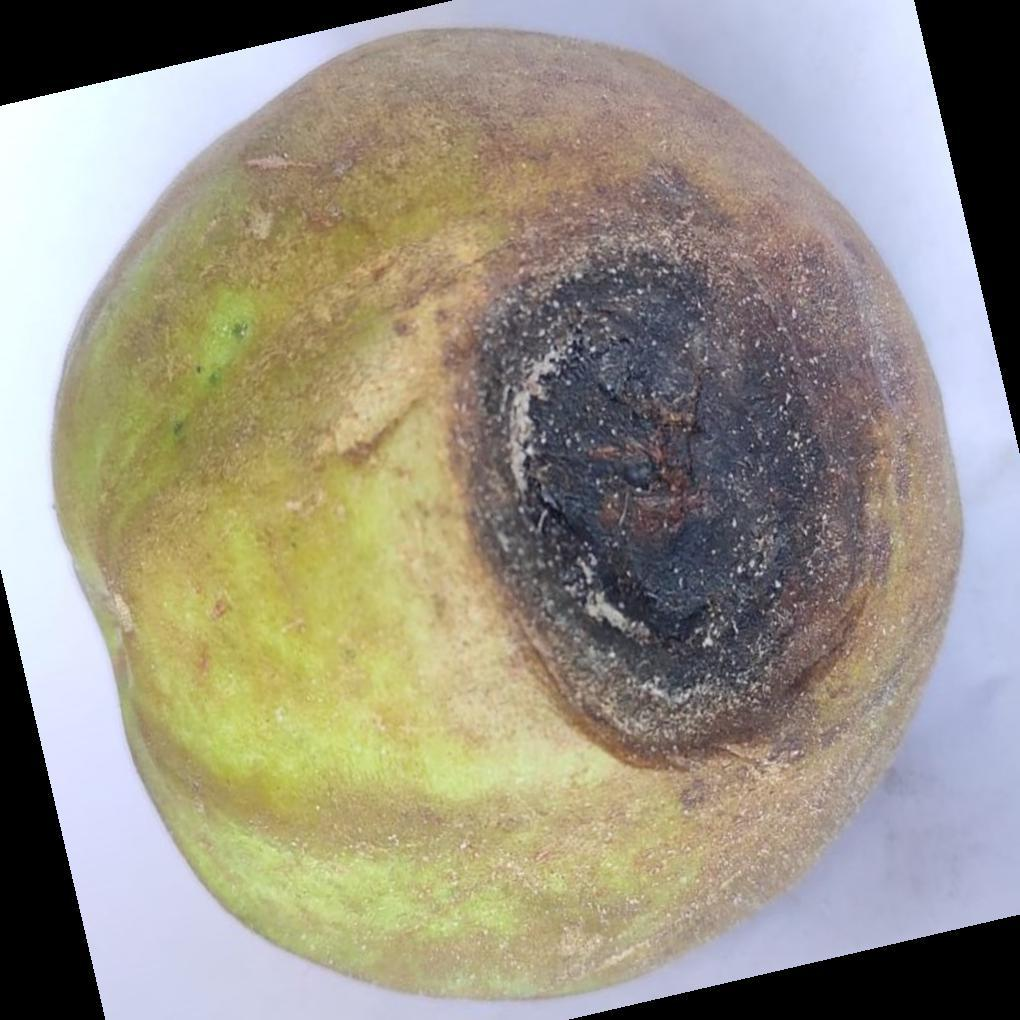FreshOrange: (48, 29, 966, 1005)
